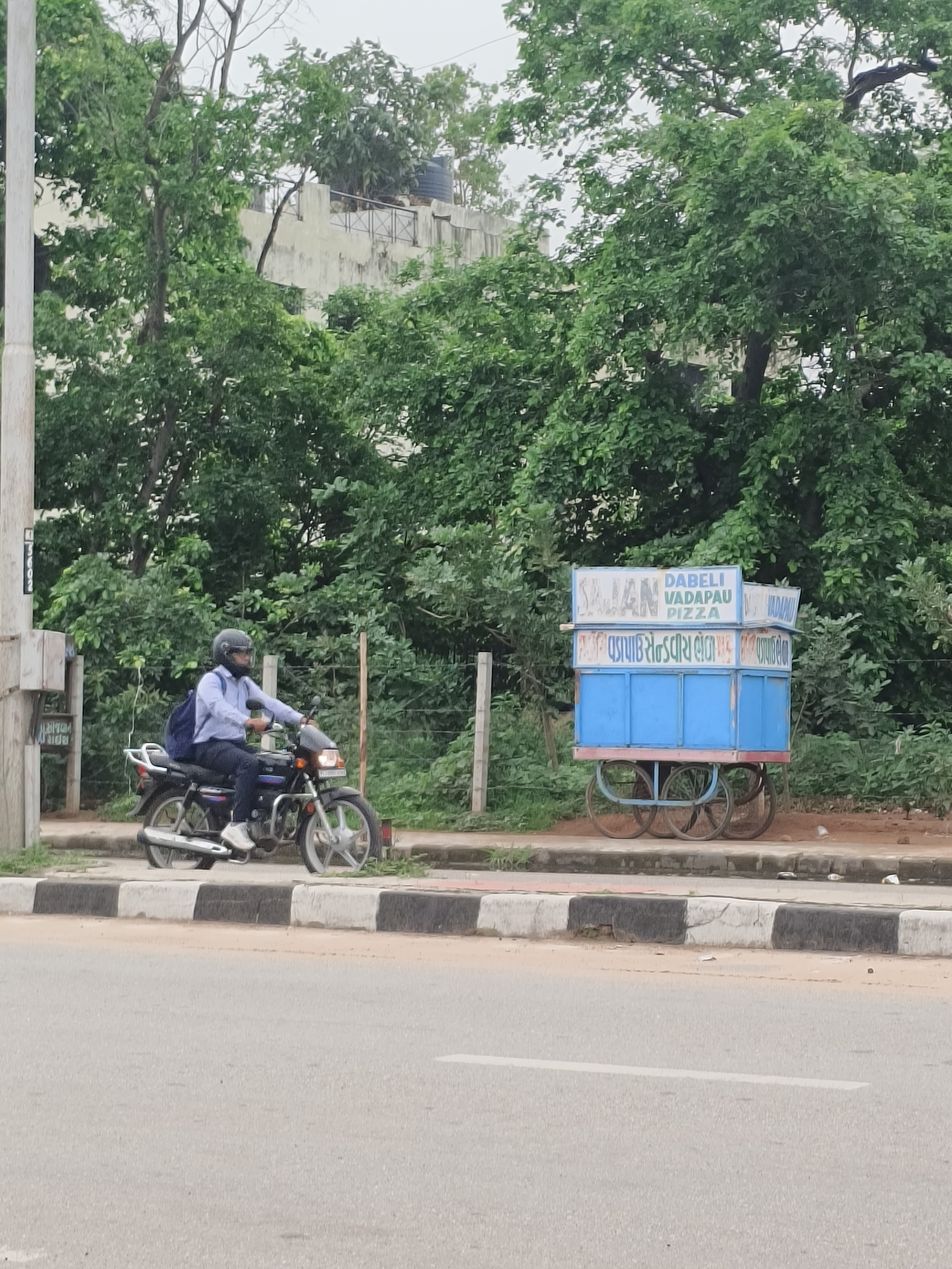BikeWithRider: (117, 627, 387, 876)
Helmet: (208, 625, 261, 677)
